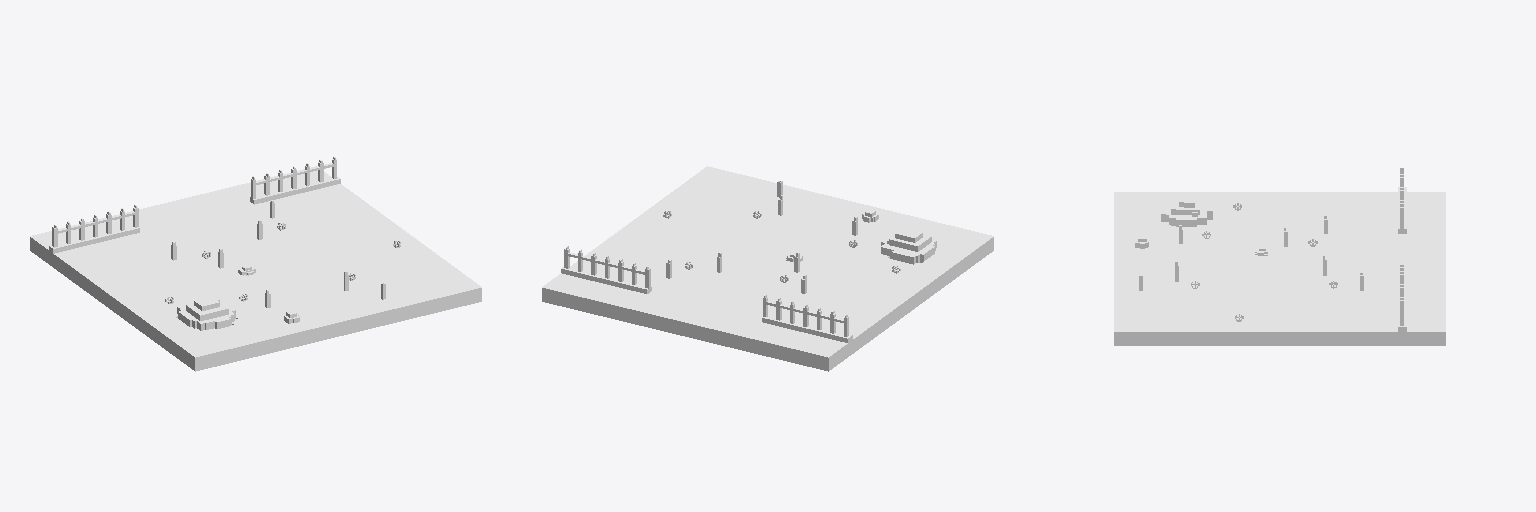
Rendered from background_gate_oneRoad.obj.
The picture shows the model from 3 angles: view 1: azimuth 30°, elevation 25°; view 2: azimuth 150°, elevation 25°; view 3: azimuth 270°, elevation 25°; orthographic projection.
Visible parts, largest first — view 1: object 1; view 2: object 1; view 3: object 1.
Boxes of the visible parts, x1=… form: object 1: x1=30, y1=156, x2=481, y2=371; object 1: x1=542, y1=166, x2=993, y2=371; object 1: x1=1114, y1=168, x2=1445, y2=345.
Bounding box in the file's own units: 25.6 × 3.4 × 25.6.